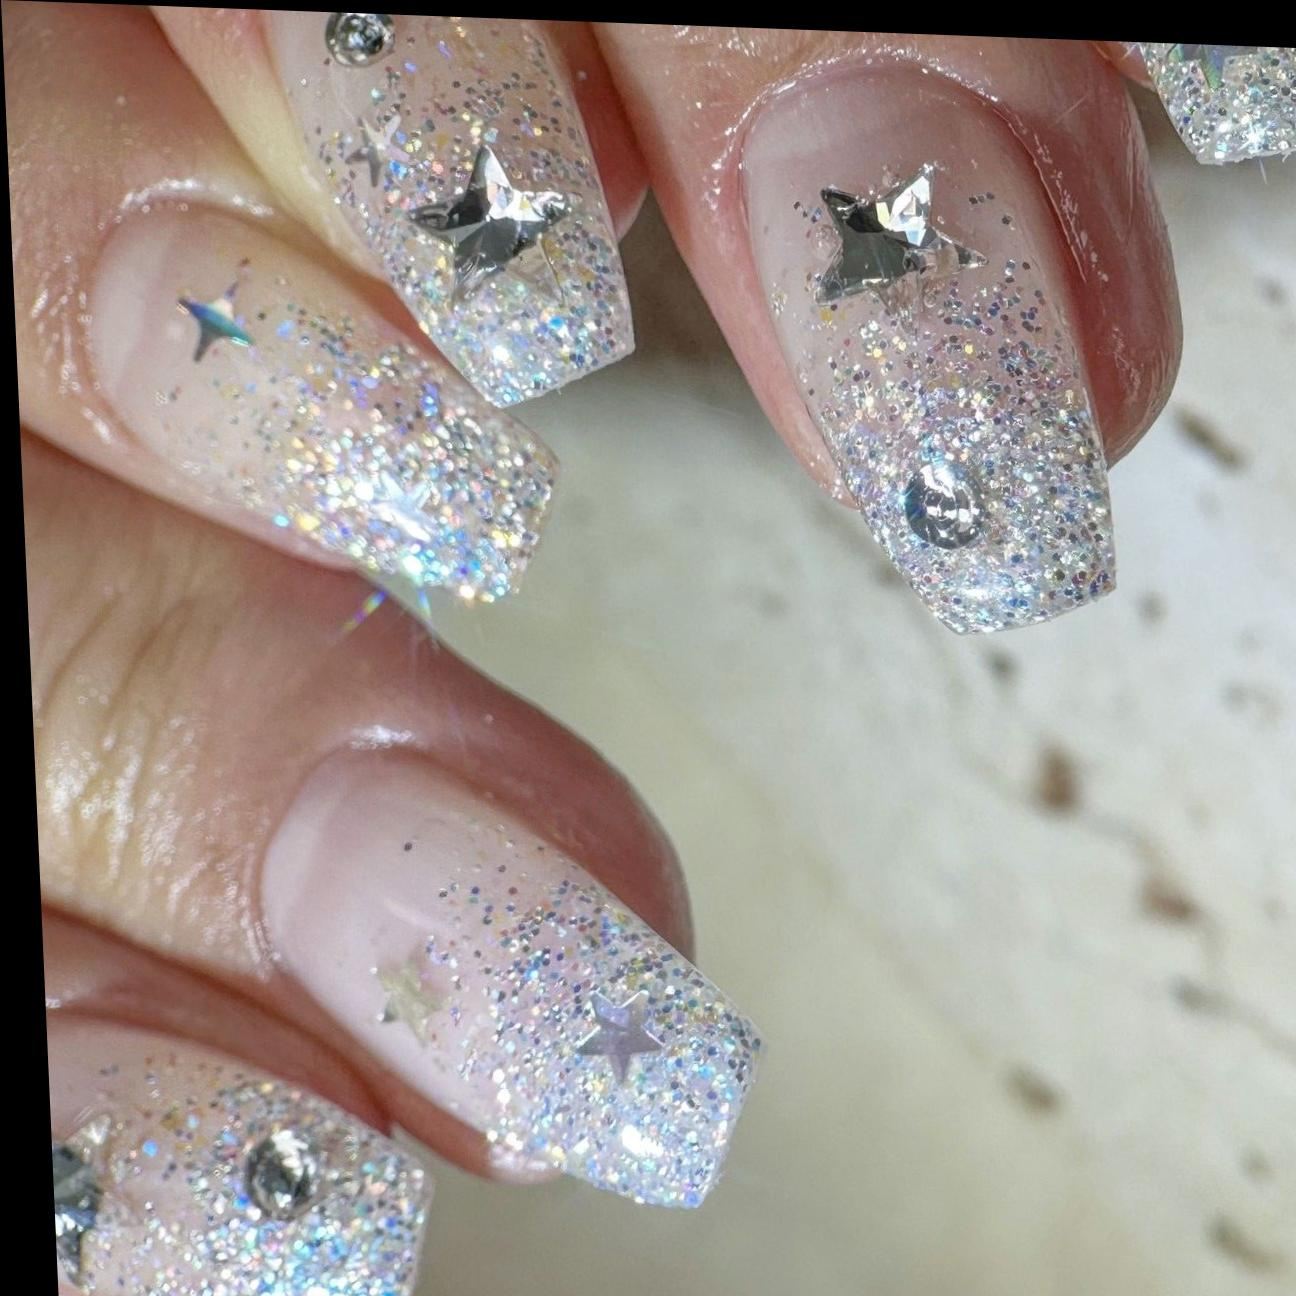nail: (243, 735, 770, 1214), (725, 49, 1126, 643), (63, 183, 567, 614), (254, 9, 649, 417), (45, 1009, 441, 1296)
